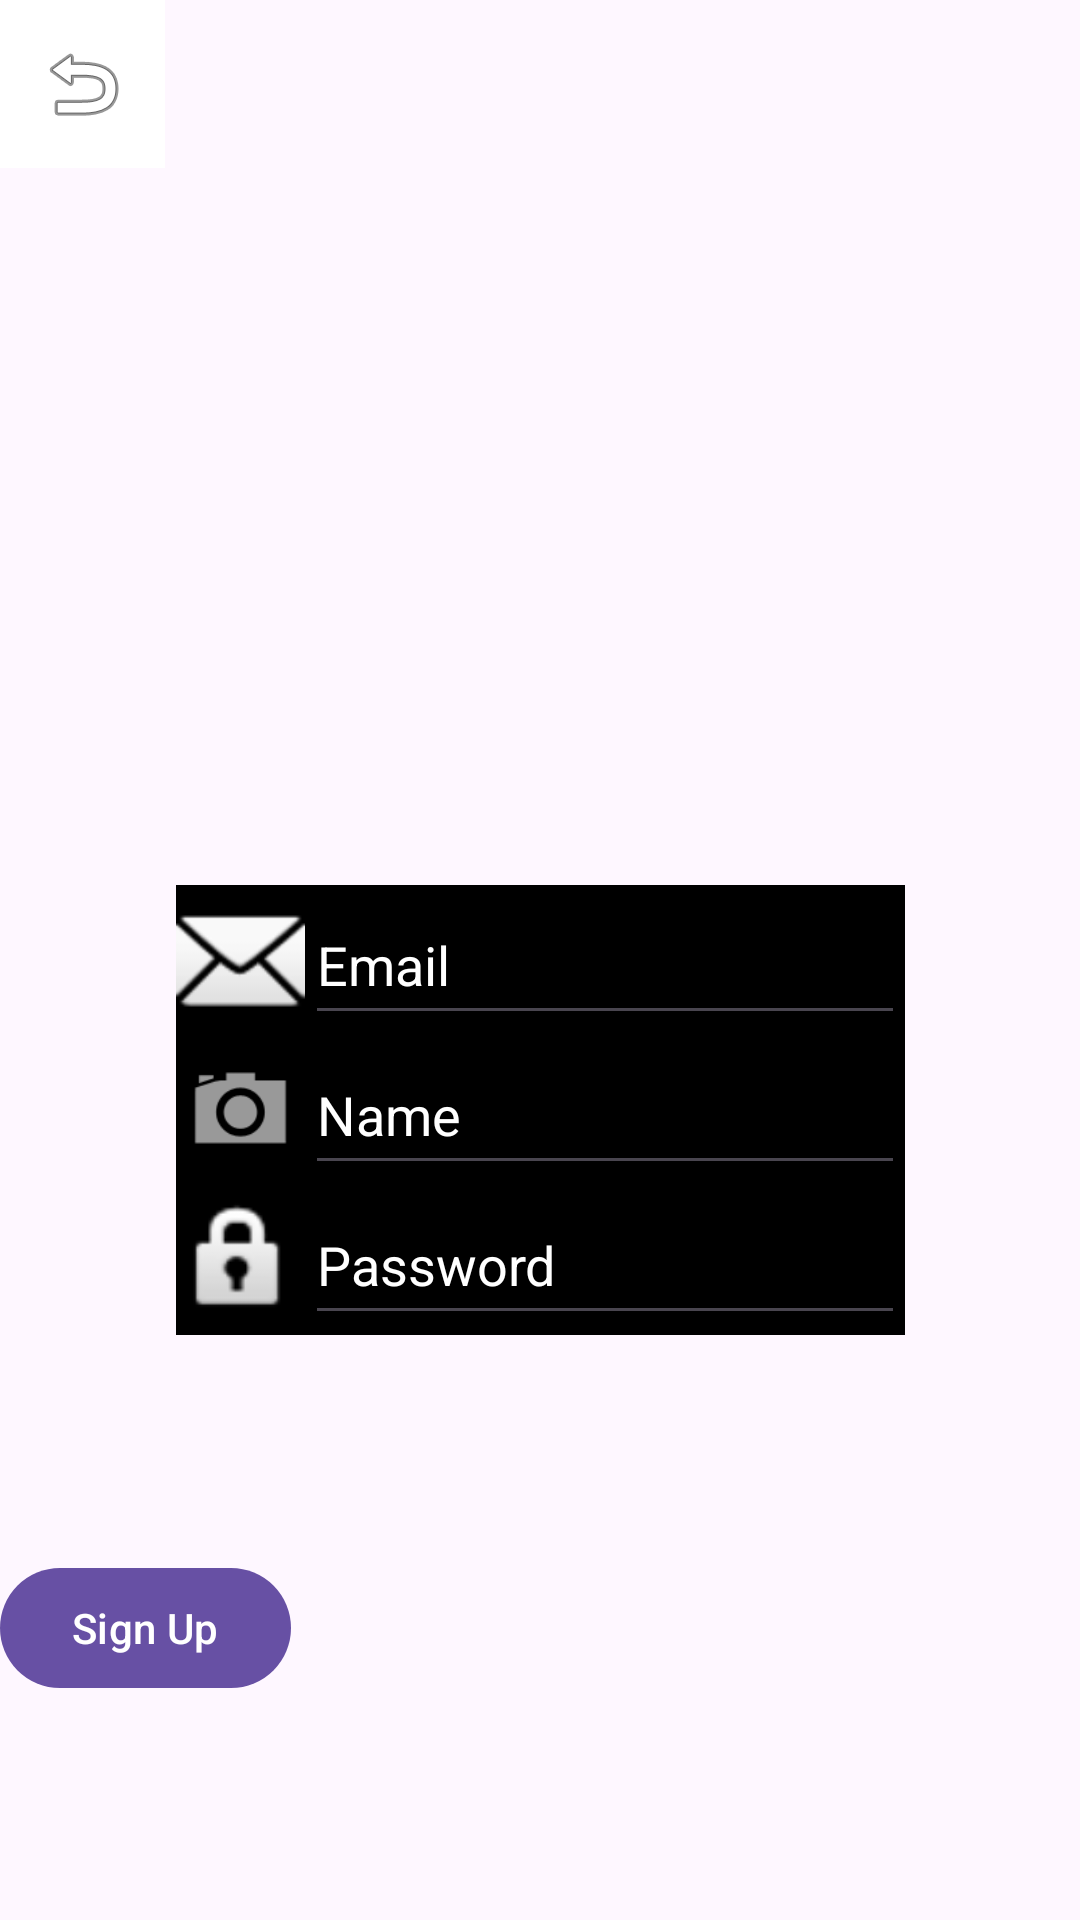

Icon click points for this 1080px×1920px phone screenshot, format point (x, y):
camera: point (240, 1108)
lock idle: point (237, 1255)
revert: point (84, 84)
